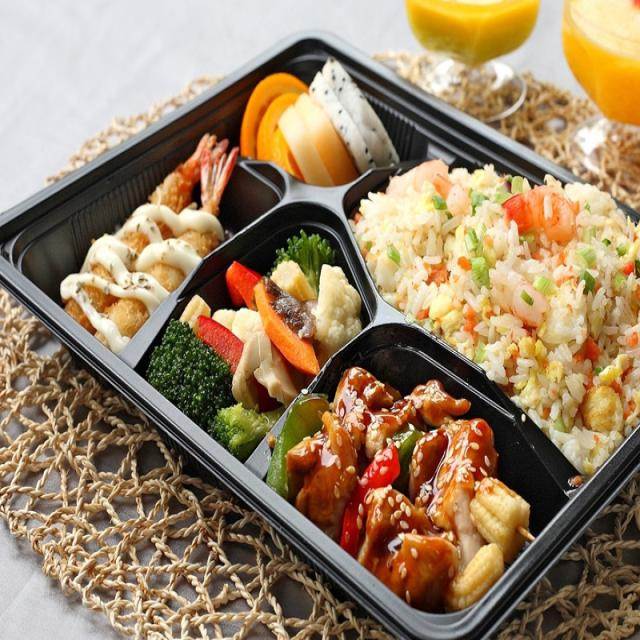ca chua: (241, 73, 356, 185)
rau: (146, 231, 362, 458)
suon xao: (287, 368, 533, 610)
thanh long: (310, 59, 399, 171)
